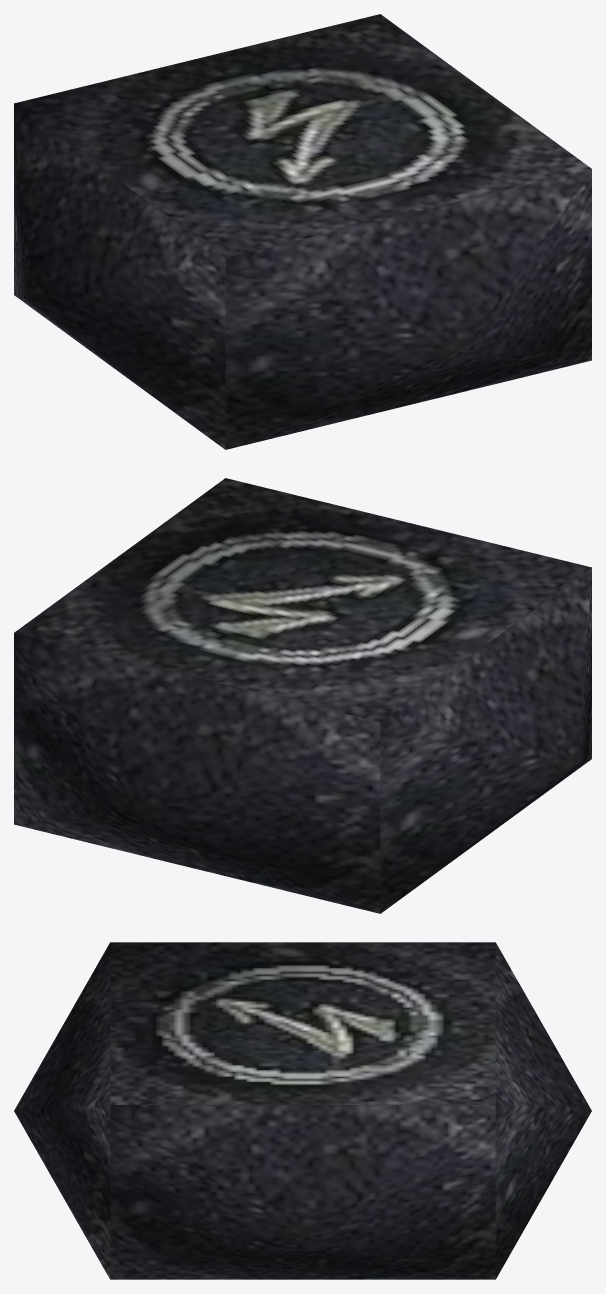
File: ITRU_HOLYSHOCK.glb
3 renders of one model, top to bottom at view 1: azimuth 30°, elevation 25°; view 2: azimuth 150°, elevation 25°; view 3: azimuth 270°, elevation 25°, orthographic. The views are drawn at different scales.
Visible parts, largest first — view 1: Mesh; view 2: Mesh; view 3: Mesh.
Part boxes in pixels (box(x1,y1,x2,y2)): Mesh: box(14, 14, 591, 449); Mesh: box(14, 478, 591, 913); Mesh: box(14, 942, 591, 1279).
Size of the model in its own units: 0.27 by 0.09 by 0.27.
1 material, 1 textured.
